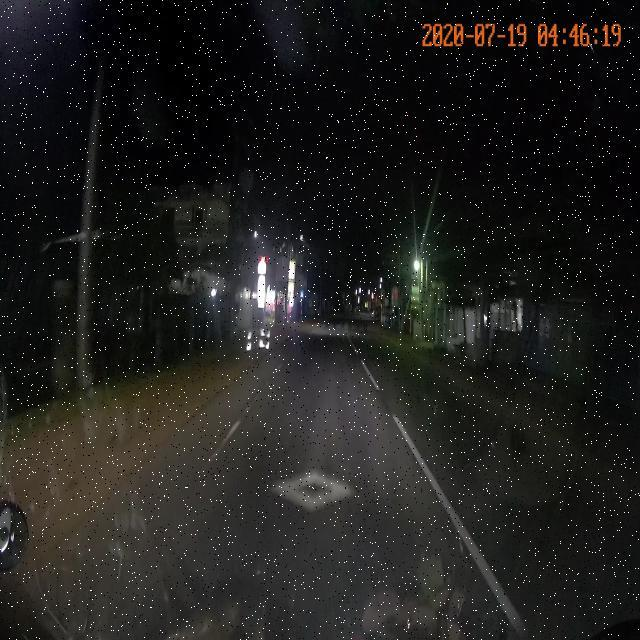diamond: (126, 453, 481, 547)
